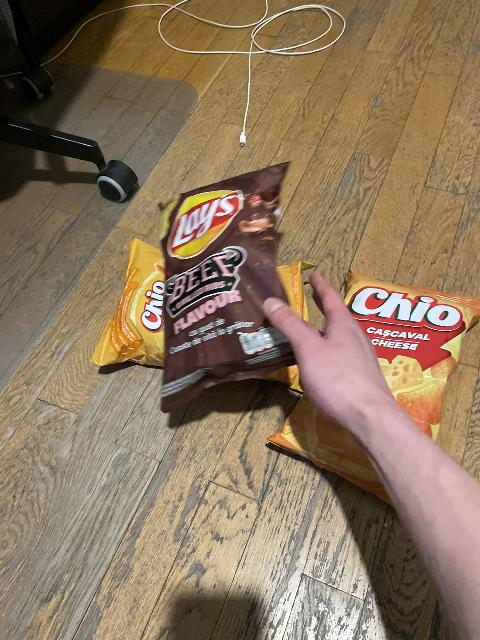Chio Cascaval 125g: (264, 267, 478, 493)
Chio Hula Hoops Cheese 70g: (92, 240, 306, 395)
Lays Beef Grilled Ribs 125g: (155, 159, 306, 412)
